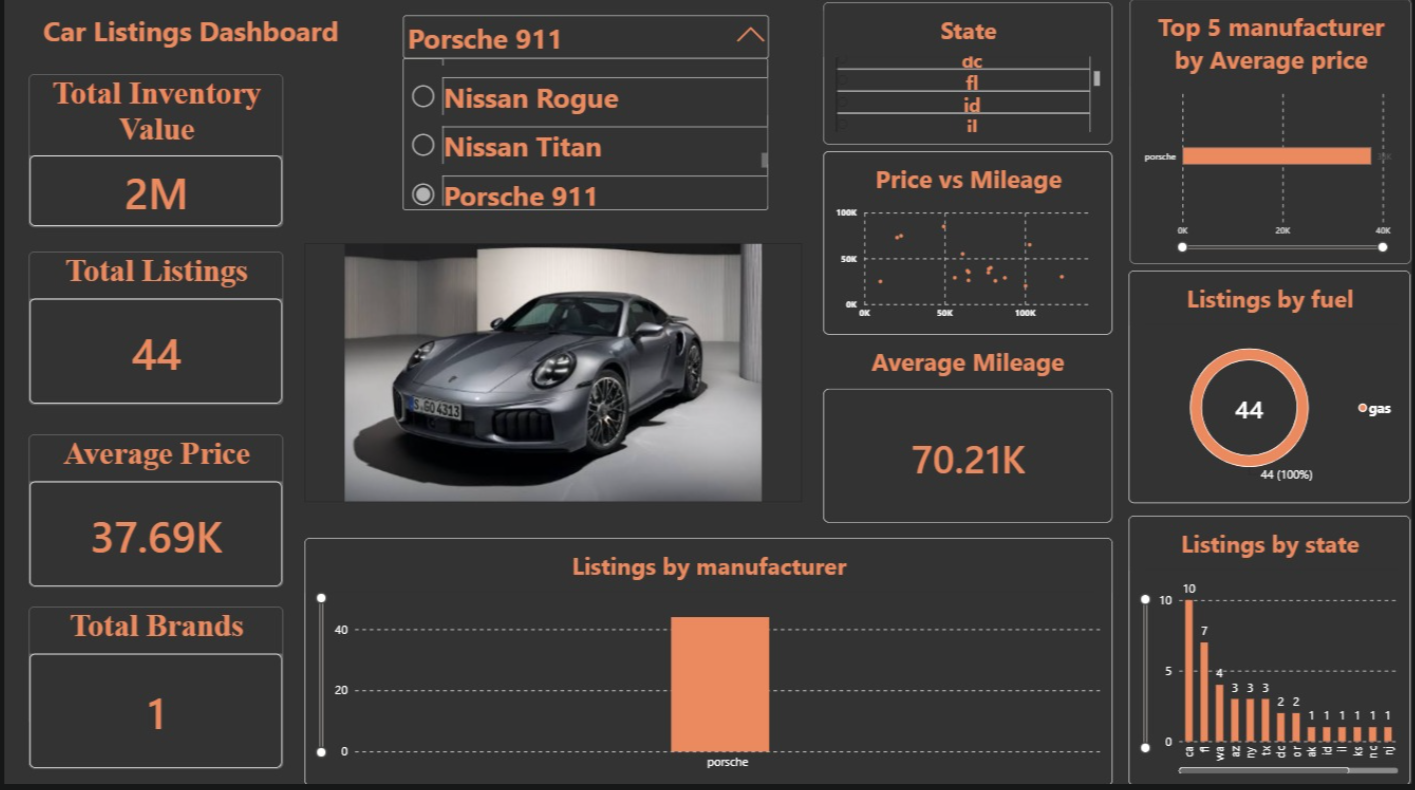

What the dashboard file says about the page in this screenshot:
{"tool":"powerbi","page":{"name":"Page 1","canvas":[1920,1080],"ordinal":0},"visuals":[{"type":"cardVisual","title":"Total Inventory Value","fields":{"Data":["Sum(cars_sample_80k_updated.price)"]},"box":[33.1,109.4,346.9,208.7],"z":0},{"type":"cardVisual","title":"Average Price","fields":{"Data":["Avg(cars_sample_80k_updated.price)"]},"box":[33.1,600.2,347,208.2],"z":1000},{"type":"cardVisual","title":"Total Brands","fields":{"Data":["Count(cars_sample_80k_updated.manufacturer)"]},"box":[33.1,834.8,347,221.4],"z":2000},{"type":"cardVisual","title":"Total Listings","fields":{"Data":["CountNonNull(cars_sample_80k_updated.price)"]},"box":[33.1,351.2,346.9,208.7],"z":3000},{"type":"slicer","fields":{"Values":["cars_sample_80k_updated.matched_car_name"]},"box":[538.3,24.5,508.1,132.4],"z":4000},{"type":"image","box":[408.8,339.7,677.9,352.6],"z":5000},{"type":"textbox","box":[47.5,24.5,413.1,61.9],"z":6000},{"type":"clusteredBarChart","title":"Top 5 manufacturer by Average price","fields":{"Category":["cars_sample_80k_updated.manufacturer"],"Y":["Avg(cars_sample_80k_updated.price)"]},"box":[1532.8,7.2,384.3,361.3],"z":7000},{"type":"donutChart","title":"Listings by fuel","fields":{"Category":["cars_sample_80k_updated.fuel"],"Y":["CountNonNull(cars_sample_80k_updated.price)"]},"box":[1531.4,377.1,384.3,316.6],"z":8000},{"type":"clusteredColumnChart","title":"Listings by state","fields":{"Category":["cars_sample_80k_updated.state"],"Y":["CountNonNull(cars_sample_80k_updated.price)"]},"box":[1531.4,711,384.3,368.5],"z":9000},{"type":"clusteredColumnChart","title":"Listings by manufacturer","fields":{"Category":["cars_sample_80k_updated.manufacturer"],"Y":["CountNonNull(cars_sample_80k_updated.price)"]},"box":[408.8,741.2,1101,338.2],"z":10000},{"type":"listSlicer","title":"State","fields":{"Values":["cars_sample_80k_updated.state"]},"box":[1115.4,11.5,394.4,194.3],"z":11000},{"type":"scatterChart","title":"Price vs Mileage","fields":{"Category":["cars_sample_80k_updated.model"],"X":["Avg(cars_sample_80k_updated.odometer)"],"Y":["Avg(cars_sample_80k_updated.price)"]},"box":[1115.4,214.5,394.4,250.4],"z":12000},{"type":"cardVisual","title":"Average Mileage","fields":{"Data":["Avg(cars_sample_80k_updated.odometer)"]},"box":[1115.4,477.8,394.4,243.2],"z":13000}]}

Visuals, with their boxes in screenshot pixels (x1, y1, x2, y2), scaled from the page's 1920x1080 canvas onto the 1415x790 screenshot:
"Total Inventory Value" cardVisual: [24, 80, 280, 233]
"Average Price" cardVisual: [24, 439, 280, 591]
"Total Brands" cardVisual: [24, 611, 280, 773]
"Total Listings" cardVisual: [24, 257, 280, 410]
slicer - cars_sample_80k_updated.matched_car_name: [397, 18, 771, 115]
image: [301, 248, 801, 506]
textbox: [35, 18, 339, 63]
"Top 5 manufacturer by Average price" clusteredBarChart: [1130, 5, 1413, 270]
"Listings by fuel" donutChart: [1129, 276, 1412, 507]
"Listings by state" clusteredColumnChart: [1129, 520, 1412, 789]
"Listings by manufacturer" clusteredColumnChart: [301, 542, 1113, 789]
"State" listSlicer: [822, 8, 1113, 151]
"Price vs Mileage" scatterChart: [822, 157, 1113, 340]
"Average Mileage" cardVisual: [822, 350, 1113, 527]
